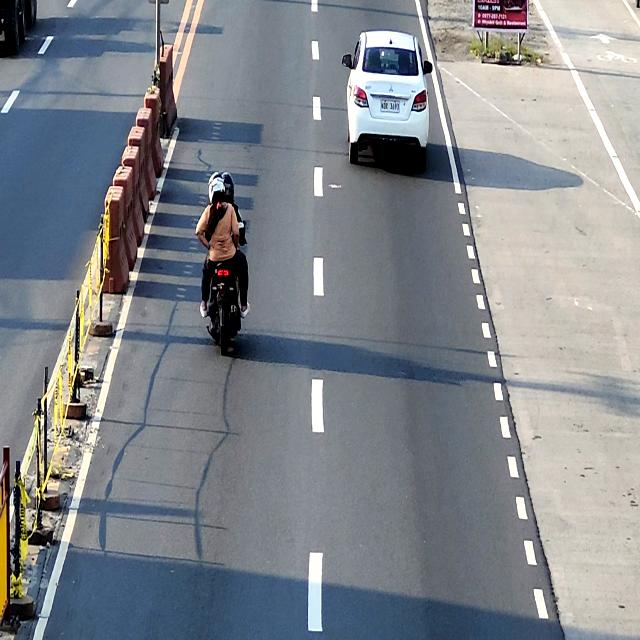Car: (342, 31, 433, 171)
License-Plate: (380, 100, 400, 112)
Motorcycle: (199, 214, 246, 355)
